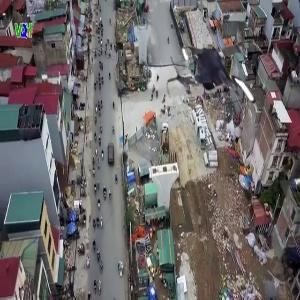drone: (163, 25, 275, 137)
